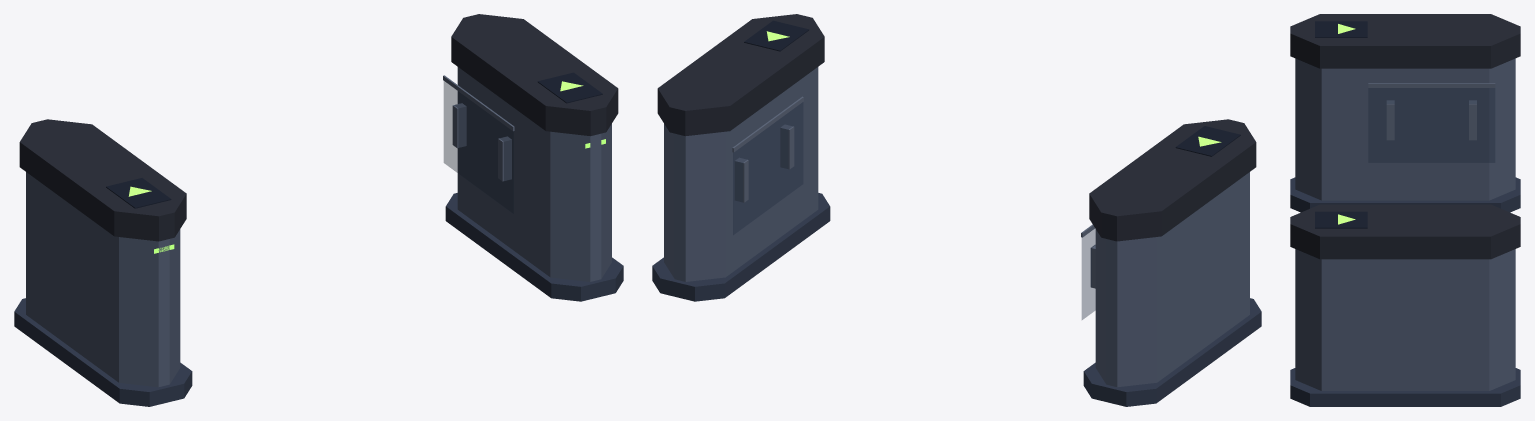
File: off_security_turnstile.glb
3 views of the same model, side by side, from view 1: azimuth 30°, elevation 25°; view 2: azimuth 150°, elevation 25°; view 3: azimuth 270°, elevation 25° (orthographic). The views are drawn at different scales.
Visible parts, largest first — view 1: pedestal, reader_crown, anchor, parked_wing, reader, hinge; view 2: pedestal, reader_crown, anchor, parked_wing, hinge, reader; view 3: pedestal, reader_crown, parked_wing, anchor, reader, hinge.
Part boxes in pixels (bbox=[...]): pedestal: bbox=[26, 67, 611, 387]; reader_crown: bbox=[19, 14, 618, 241]; anchor: bbox=[14, 193, 623, 406]; parked_wing: bbox=[444, 81, 513, 213]; reader: bbox=[106, 72, 602, 208]; hinge: bbox=[443, 75, 514, 181]; pedestal: bbox=[664, 67, 1249, 387]; reader_crown: bbox=[657, 14, 1256, 241]; anchor: bbox=[652, 193, 1261, 406]; parked_wing: bbox=[733, 102, 1095, 319]; hinge: bbox=[732, 96, 1095, 288]; reader: bbox=[744, 20, 1240, 156]; pedestal: bbox=[1295, 58, 1515, 390]; reader_crown: bbox=[1290, 14, 1520, 259]; parked_wing: bbox=[1368, 88, 1494, 162]; anchor: bbox=[1290, 177, 1520, 406]; reader: bbox=[1315, 21, 1367, 228]; hinge: bbox=[1368, 83, 1495, 140].
Bounding box in the file's own units: 3.2 × 1.15 × 1.4.
